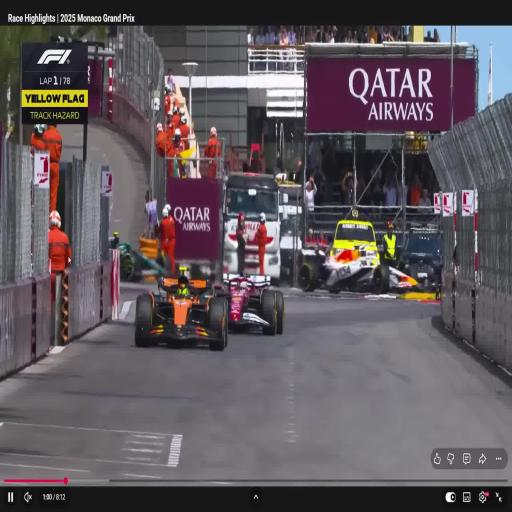f1_car: (299, 213, 418, 293), (135, 267, 228, 349), (215, 274, 284, 335), (354, 211, 355, 212)
